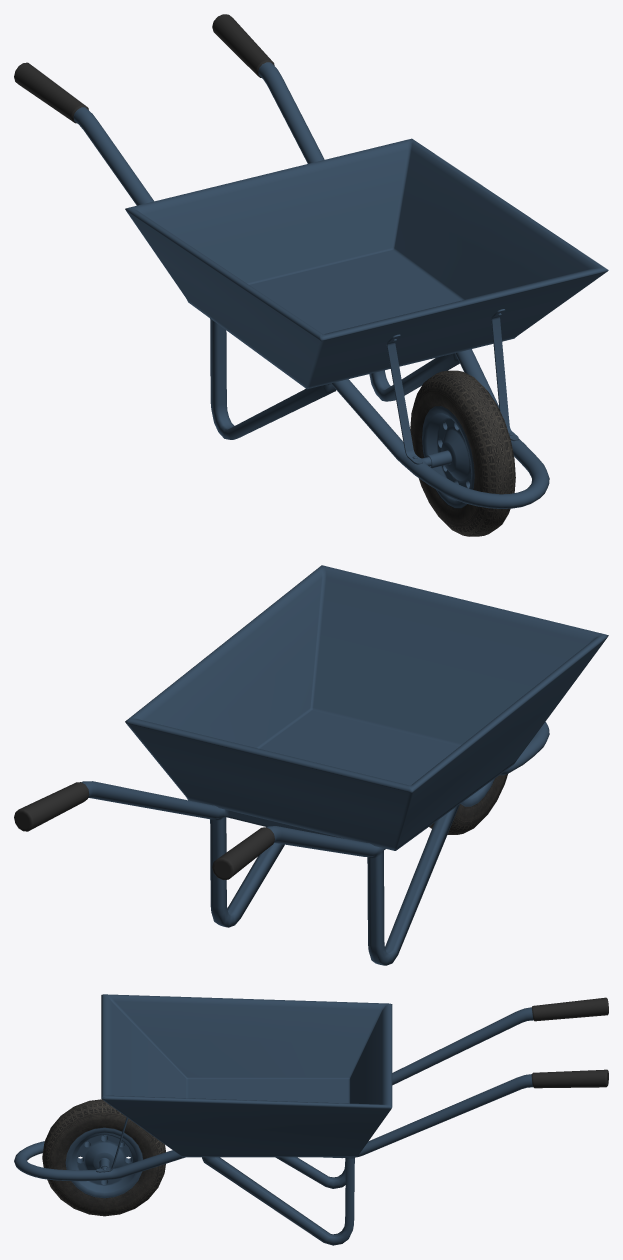
Rendered from carretilla.glb.
The picture shows the model from 3 angles, top to bottom: view 1: azimuth 30°, elevation 25°; view 2: azimuth 150°, elevation 25°; view 3: azimuth 270°, elevation 25°; orthographic projection. The views are drawn at different scales.
Parts seen in each view (by area): view 1: Cart, Wheel; view 2: Cart, Wheel; view 3: Cart, Wheel.
Part boxes in pixels (bbox=[...]): Cart: bbox=[14, 14, 608, 508]; Wheel: bbox=[410, 370, 515, 536]; Cart: bbox=[14, 565, 608, 965]; Wheel: bbox=[429, 774, 507, 834]; Cart: bbox=[14, 994, 608, 1245]; Wheel: bbox=[42, 1099, 165, 1216].
Size of the model in its own units: 0.6402 by 0.5218 by 1.55.
Materials: 3 (1 with a texture image).
